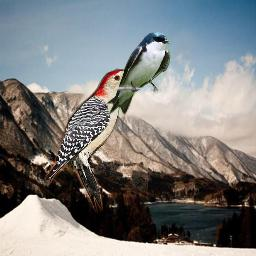Swallow: (106, 31, 171, 115)
Woodpecker: (44, 65, 148, 214)
